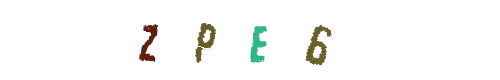6: (217, 0, 297, 80)
E: (210, 0, 290, 80)
P: (207, 0, 287, 80)
Z: (193, 0, 273, 80)
